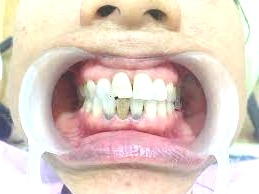Tooth Discoloration: (102, 98, 146, 121)
